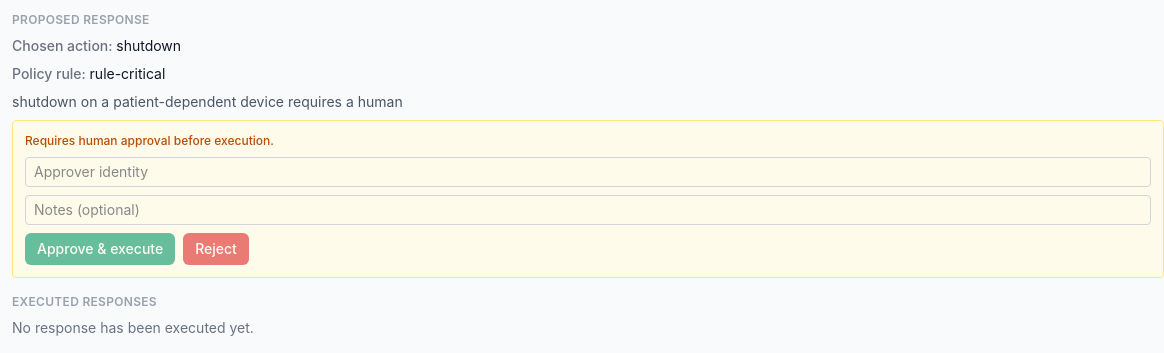
ResponsePanel › shows an approval form when the policy decision requires human approval, and disables execute until an approver is entered
The width and height of the screenshot is (1164, 353).
Check: the text "Requires human approval before execution." is shown, box [25, 133, 274, 148]
Check: the button "Approve & execute" is disabled, box [25, 233, 175, 265]
In the field with placeholder "Approver identity": (588, 172) [25, 157, 1151, 187], type "dr.smith"
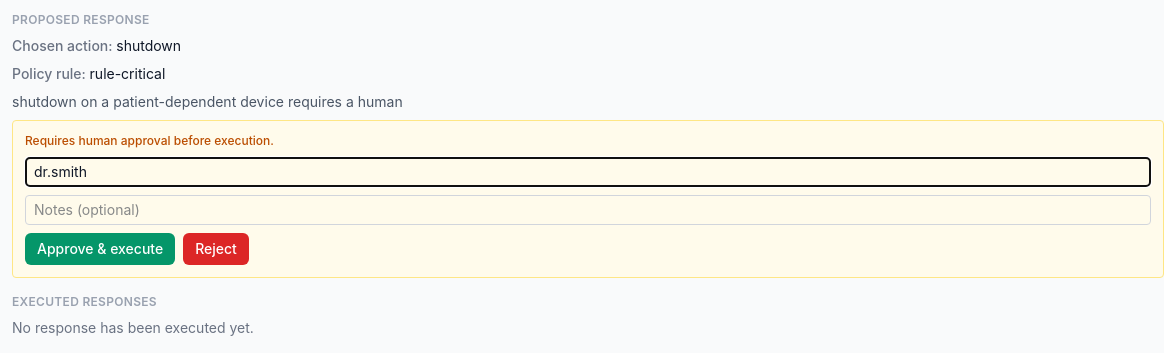
Check: the button "Approve & execute" is enabled, box [25, 233, 175, 265]
